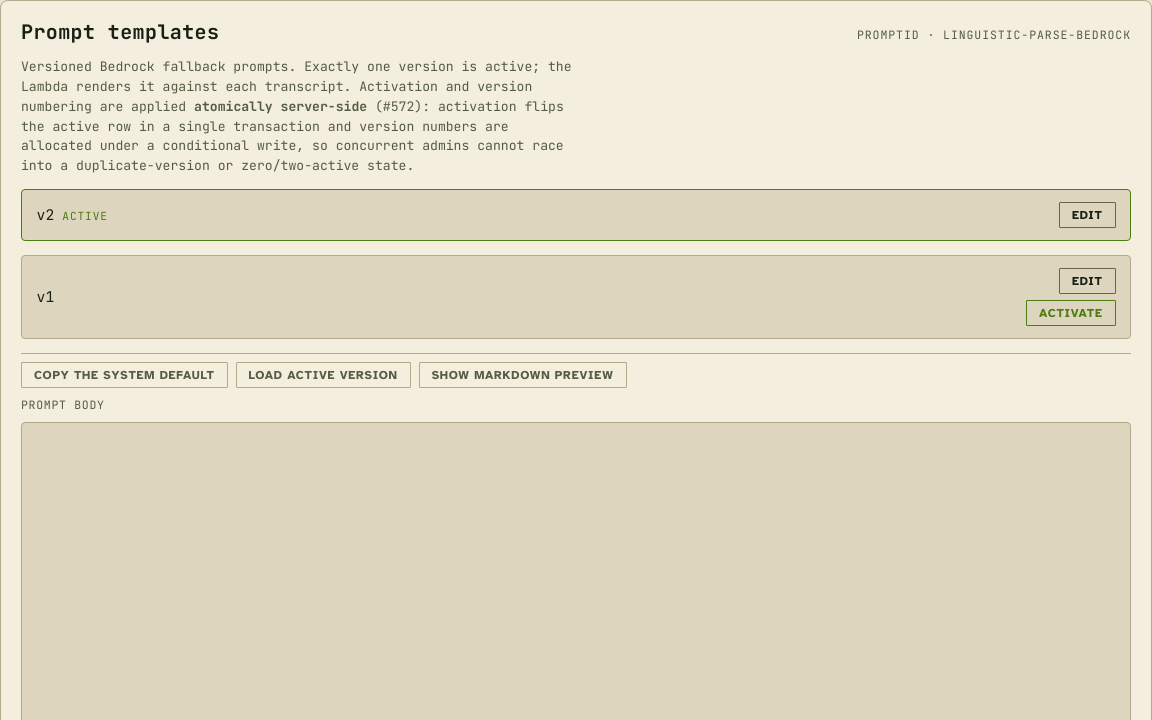
Test case: LinguisticPromptTemplates › surfaces an activation error
This screenshot has width=1152, height=720.
Expected: the list with test id "template-list" is shown, x1=21 y1=189 x2=1131 y2=339
Click the button "Activate" at (1071, 313), box x1=1026 y1=300 x2=1116 y2=326
(page scrolled)
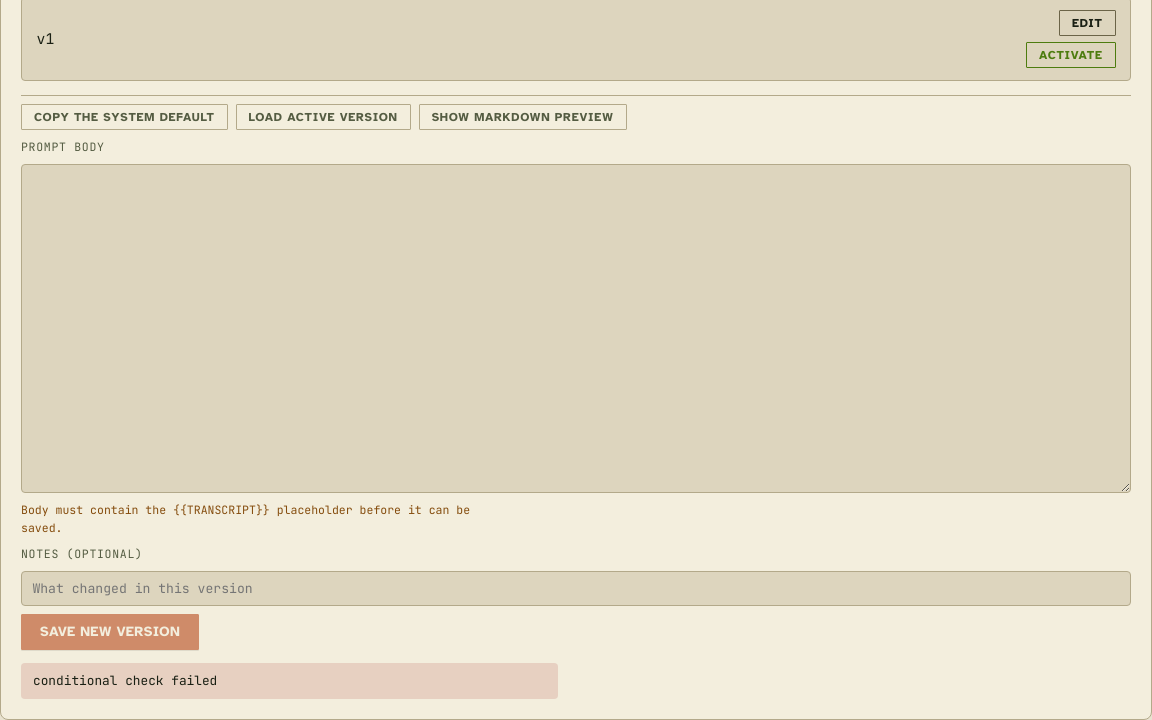
Now the message reads "conditional check failed", box x1=33 y1=672 x2=217 y2=690
